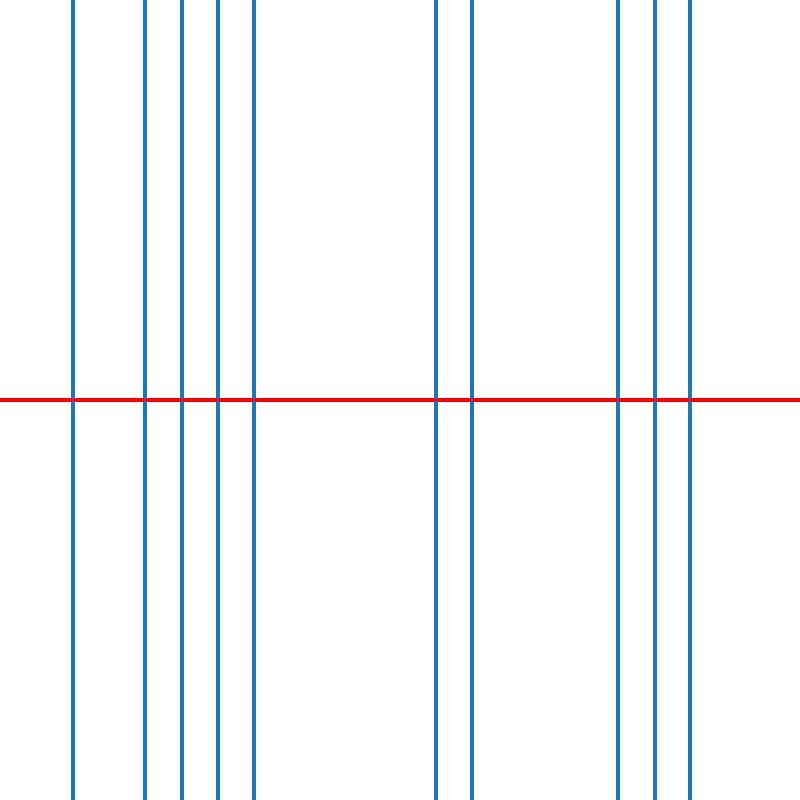root: (650, 396, 658, 404), (141, 396, 149, 404), (250, 396, 258, 404), (432, 396, 440, 404), (178, 396, 185, 404), (69, 396, 76, 404), (469, 396, 476, 404), (614, 396, 621, 404), (214, 396, 221, 404), (687, 396, 694, 404)
